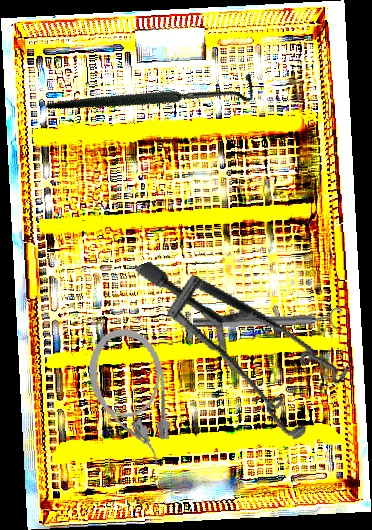Cannula: (80, 321, 182, 474)
Fixation Ring: (192, 306, 343, 335)
Hook Surgical: (44, 2, 262, 184)
Speculum: (134, 211, 365, 471)
